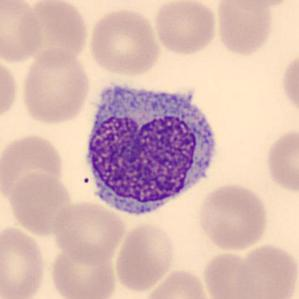Monocyte: (78, 75, 224, 224)
RBC: (18, 46, 92, 127), (87, 5, 162, 78), (195, 181, 270, 252), (50, 198, 126, 264), (0, 132, 68, 204), (16, 0, 90, 65), (112, 220, 177, 292), (6, 170, 74, 236), (47, 243, 119, 299), (232, 242, 298, 299), (152, 0, 219, 56), (0, 224, 48, 299), (213, 0, 275, 57), (200, 248, 264, 299), (0, 0, 46, 64), (263, 125, 299, 195), (142, 267, 212, 299), (0, 53, 20, 127), (279, 50, 299, 117), (226, 0, 296, 10)
